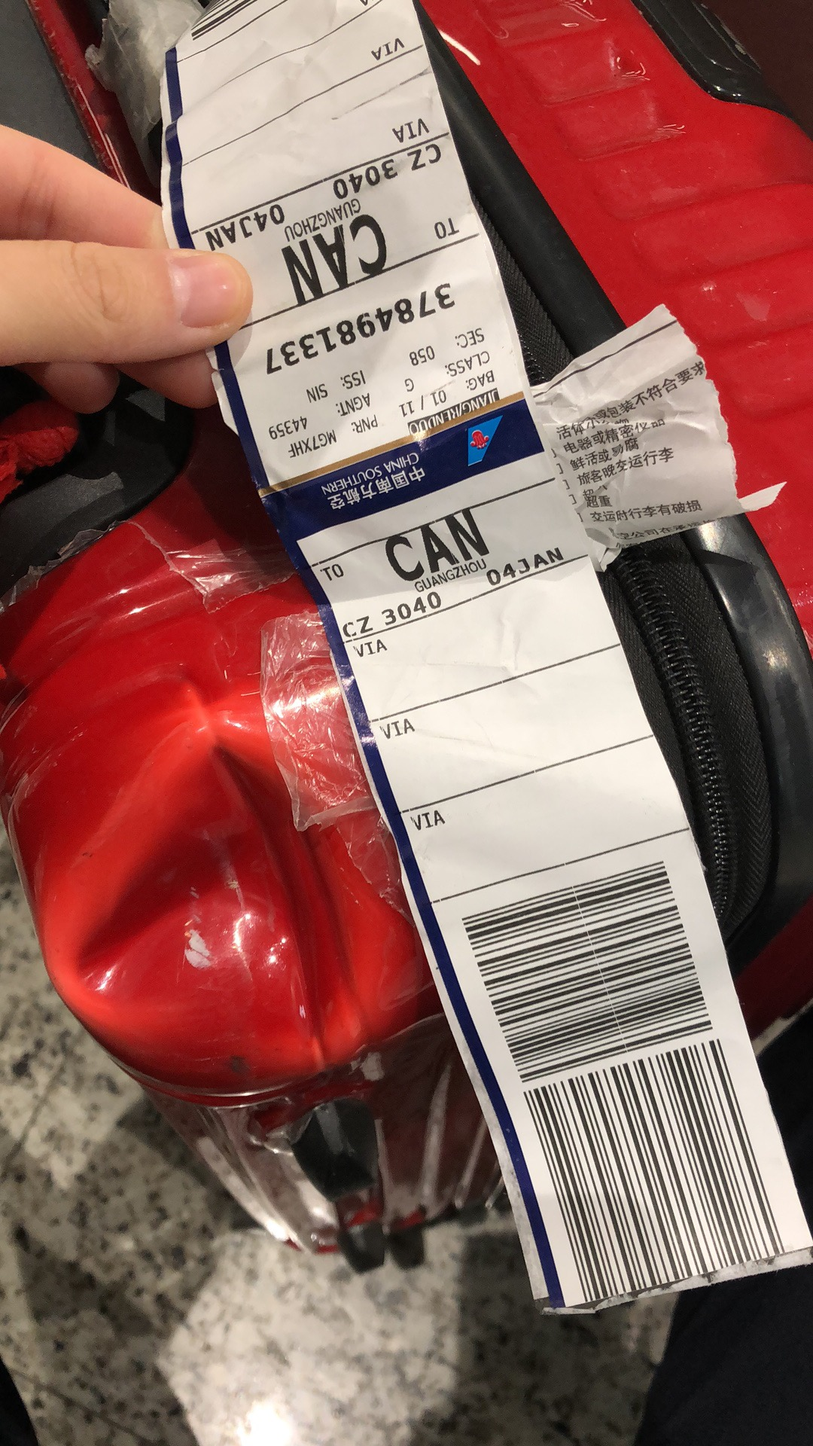rupture: (41, 718, 388, 1063)
